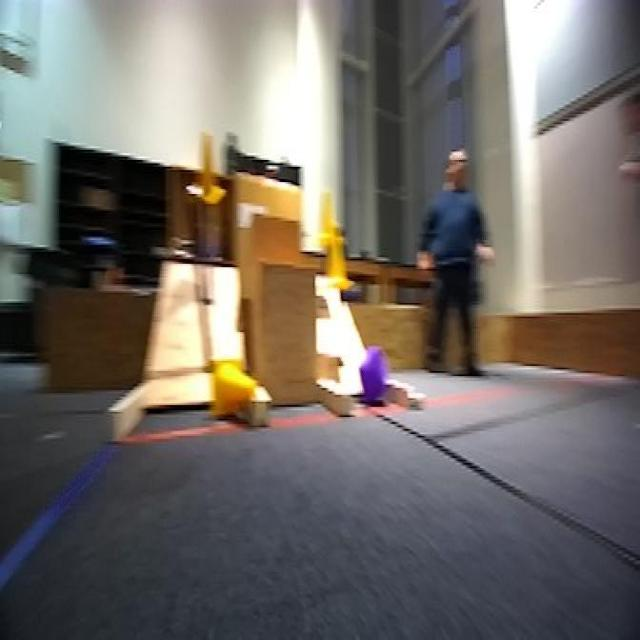frc_cone: (212, 362, 261, 420), (194, 131, 229, 206), (325, 223, 353, 288), (321, 192, 344, 242)
frc_cube: (358, 352, 387, 398)
